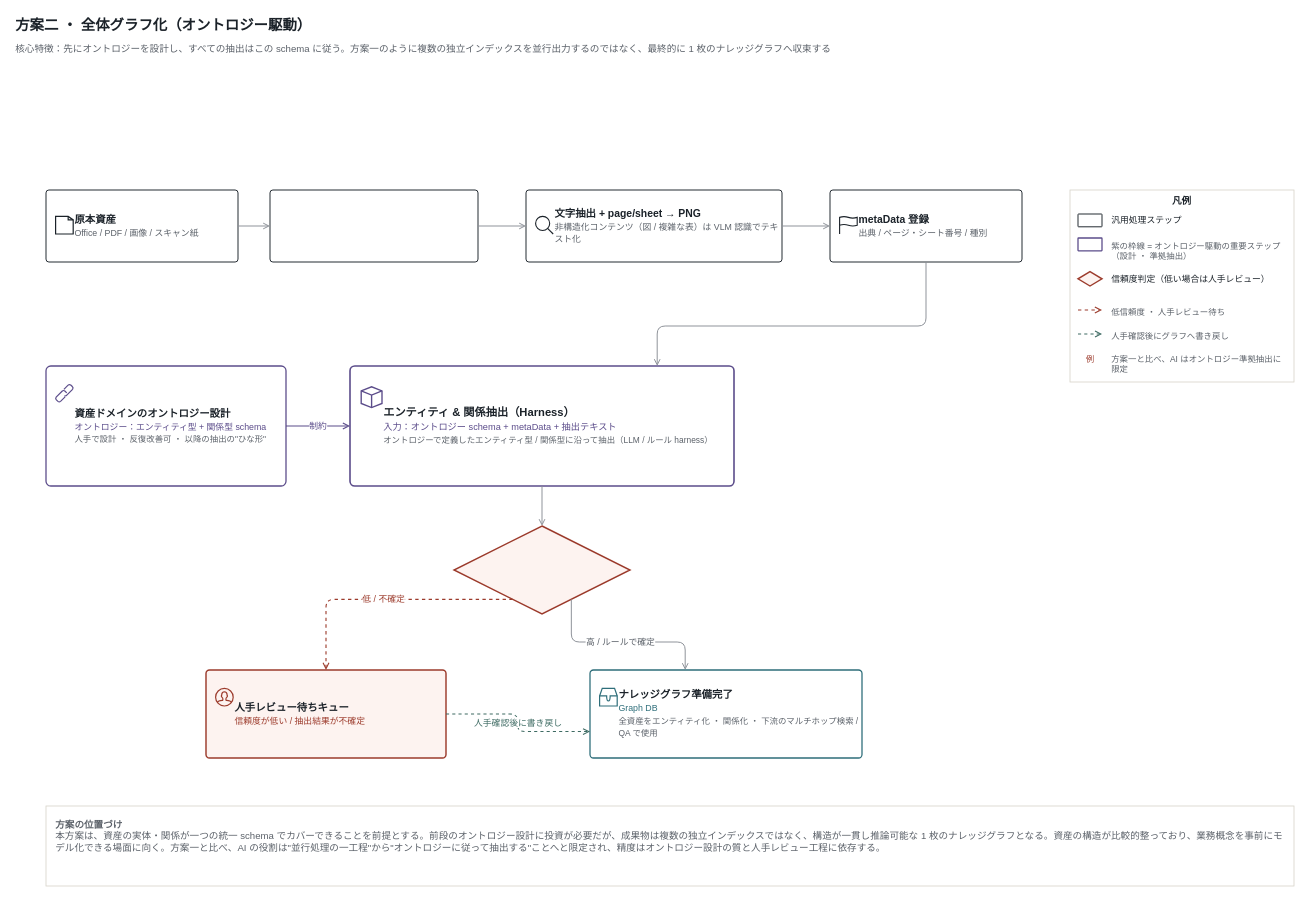
This 1308x900 diagram has some shape labels left out. Each missing label, with the centre of its shape:
"スキャン & 種別判定 プレーンテキスト / 複雑な表 / フローチャート / 画像" belongs at (x=373, y=225).
"信頼度判定" belongs at (x=541, y=569).
